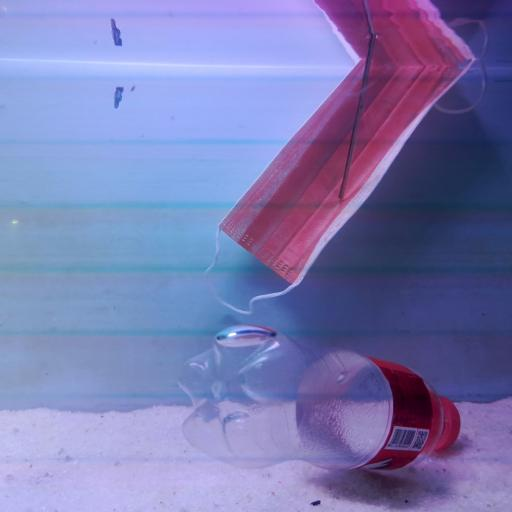bottle_cap: (434, 395, 466, 459)
mask: (198, 59, 484, 322)
plastic_bottle: (178, 326, 468, 472)
